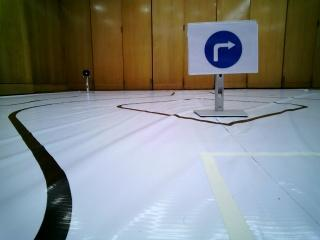right: (192, 26, 254, 71)
